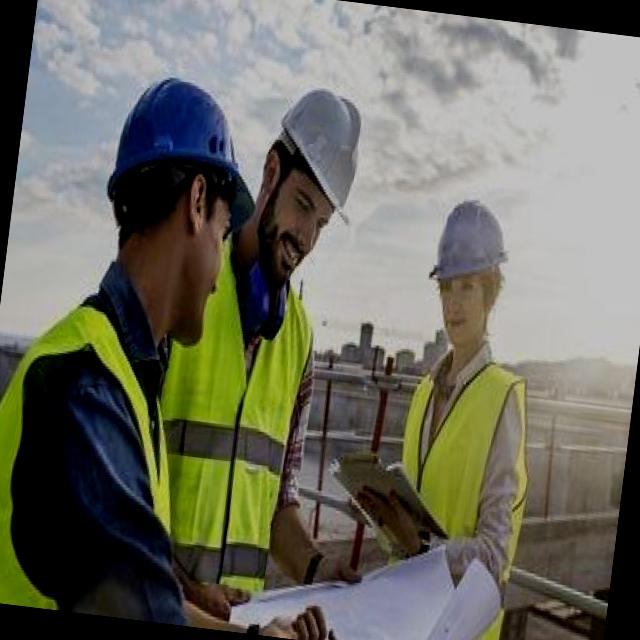helmet: (99, 74, 272, 242), (264, 80, 372, 232), (434, 201, 512, 283)
no-goggles: (272, 172, 342, 236), (193, 190, 244, 264), (432, 266, 490, 304)
vest: (0, 302, 211, 624), (158, 282, 312, 636), (388, 340, 528, 564)
